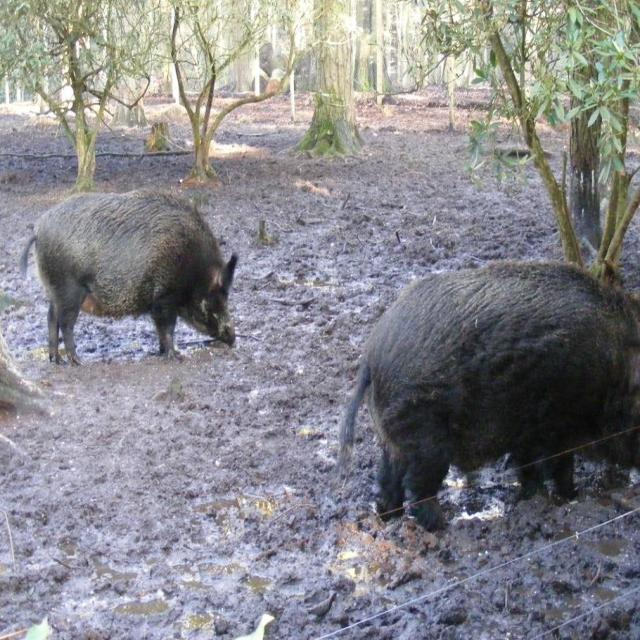pig: (339, 262, 640, 529), (20, 190, 238, 364)
